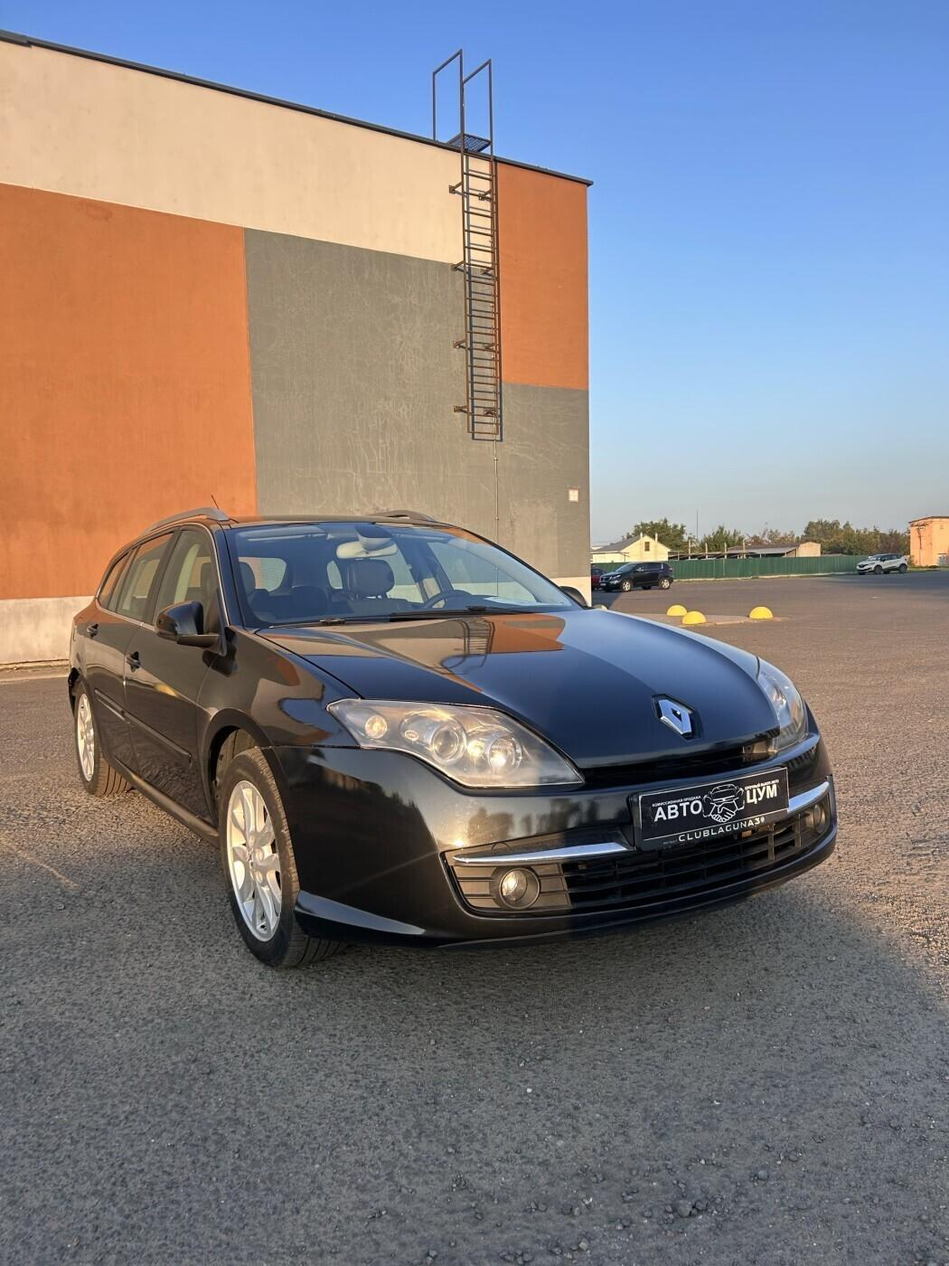Laguna_2007-2011: (67, 511, 837, 968)
